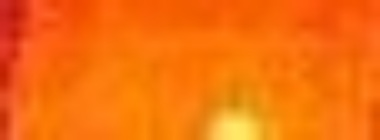Hotspot: (203, 98, 269, 140)
